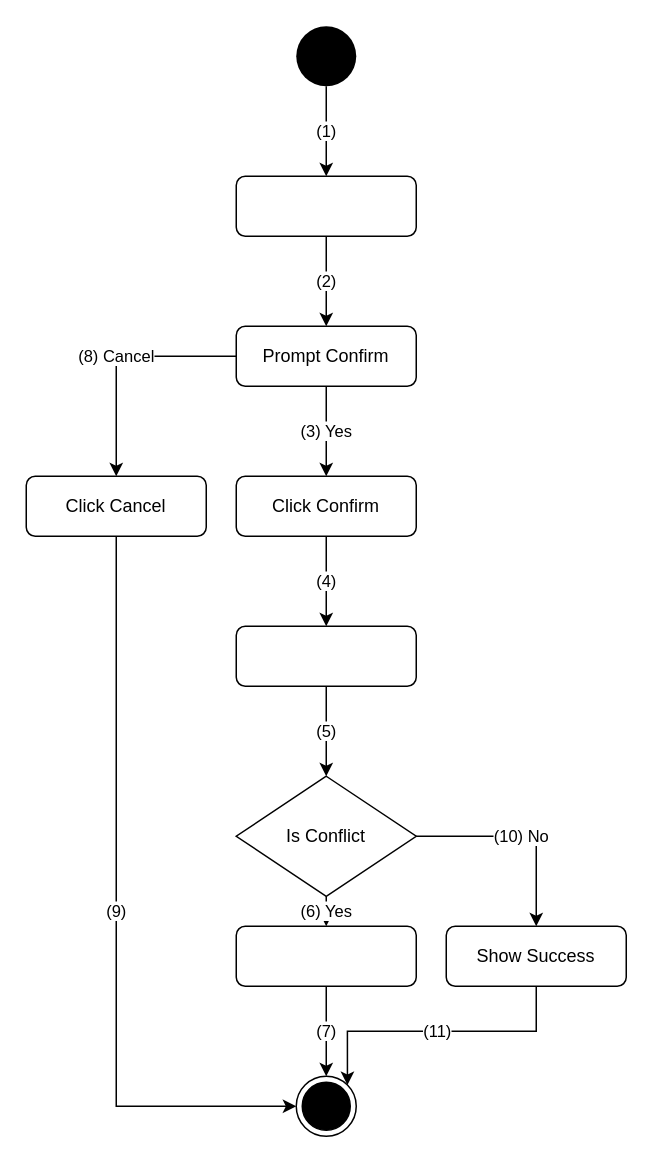
Some shapes in this 653 by 1163 pixel diagram are drawn without their labels. Each missing label, with the centre of its shape:
"Select Decision" goes at pixel 325 205.
"Show Conflict Warning" goes at pixel 325 955.
"Update State" goes at pixel 325 655.
